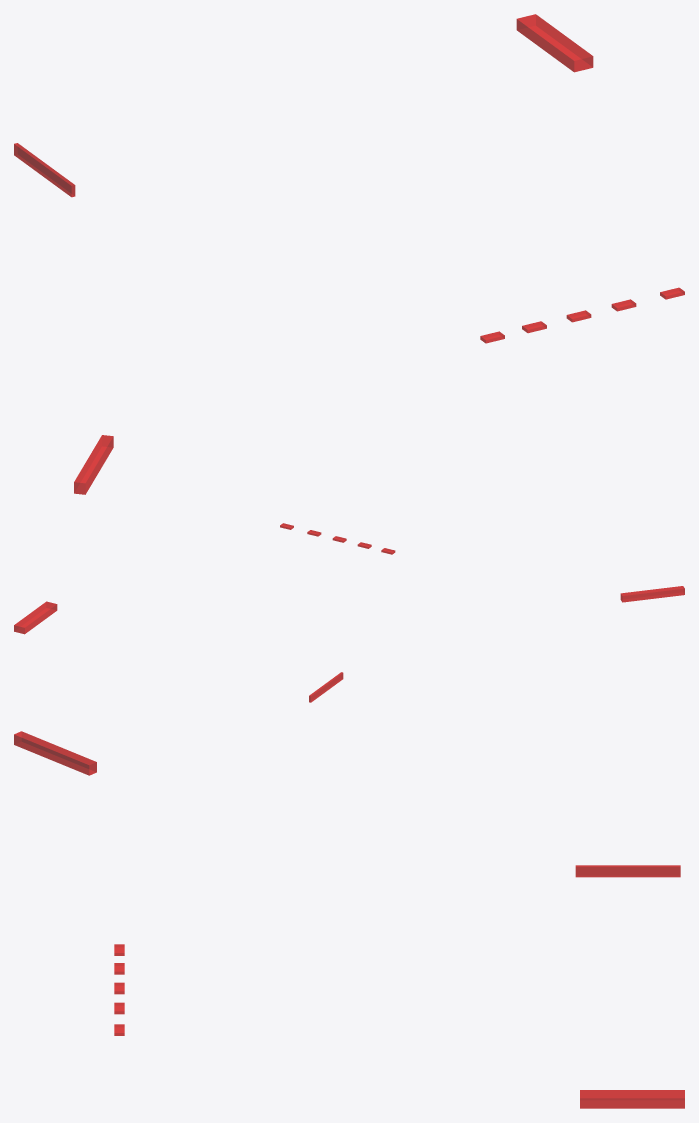
File: Track3_Stadium_s.fbx
3 renders of one model, top to bottom at view 1: azimuth 30°, elevation 25°; view 2: azimuth 150°, elevation 25°; view 3: azimuth 270°, elevation 25°, orthographic. The views are drawn at different scales.
Visible parts, largest first — view 1: polySurface1; view 2: polySurface1; view 3: polySurface1.
Boxes of the visible parts, x1,y1,x2,y2 form: polySurface1: (14,14,684,494); polySurface1: (14,523,684,702); polySurface1: (14,731,684,1108).
Size of the model in its own units: 10917 by 146 by 8431.
